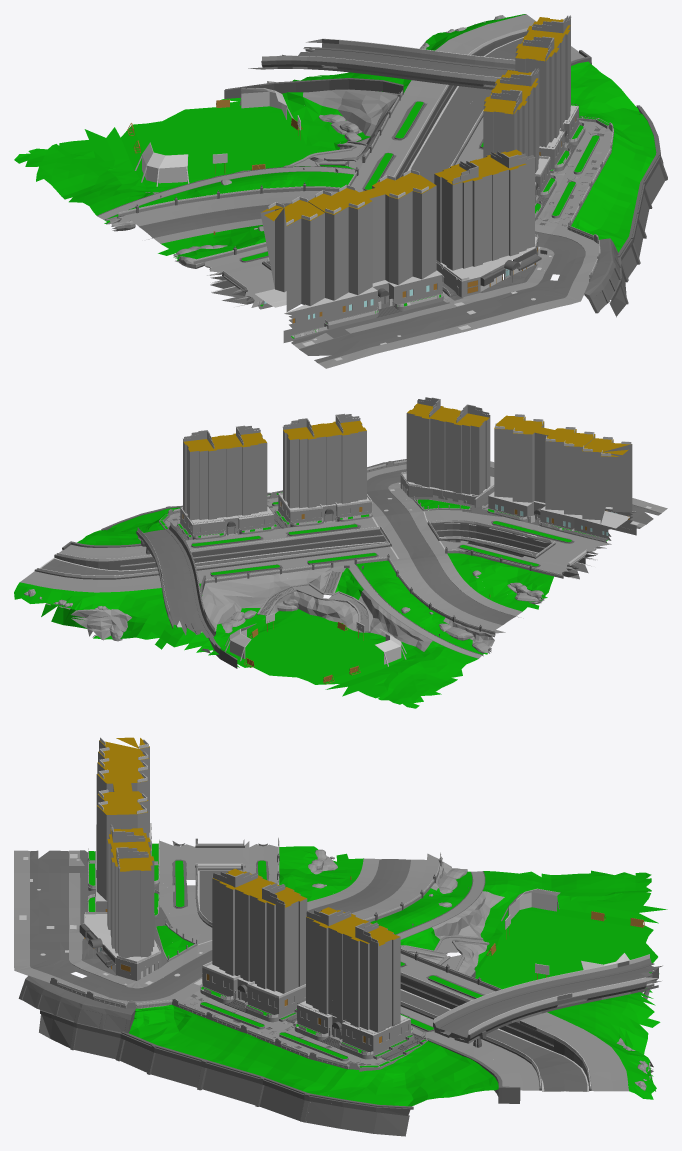
Rendered from bronx_w_10.FBX.
The picture shows the model from 3 angles, top to bottom: view 1: azimuth 30°, elevation 25°; view 2: azimuth 150°, elevation 25°; view 3: azimuth 270°, elevation 25°; orthographic projection. The views are drawn at different scales.
Visible parts, largest first — view 1: unnamed, null; view 2: unnamed, null; view 3: unnamed, null.
Part boxes in pixels (box(x1,y1,x2,y2)): unnamed: box(14, 14, 667, 368); null: box(348, 15, 663, 183); unnamed: box(14, 397, 667, 708); null: box(77, 427, 331, 612); unnamed: box(14, 737, 667, 1122); null: box(306, 909, 503, 1136).
Size of the model in its own units: 228 by 67.21 by 248.
